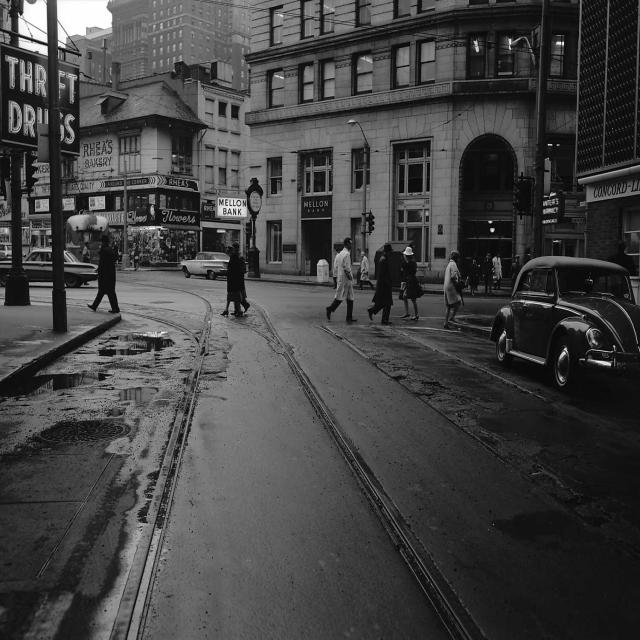body: (325, 236, 358, 324), (86, 233, 121, 314), (366, 242, 396, 326), (443, 250, 466, 330), (219, 245, 244, 318), (400, 245, 424, 321), (113, 232, 152, 272), (230, 241, 250, 316), (358, 250, 374, 291), (482, 253, 495, 296), (468, 258, 481, 297), (510, 254, 523, 291), (81, 240, 91, 286), (492, 252, 503, 290), (397, 258, 405, 299), (332, 246, 339, 290), (606, 278, 622, 296)
